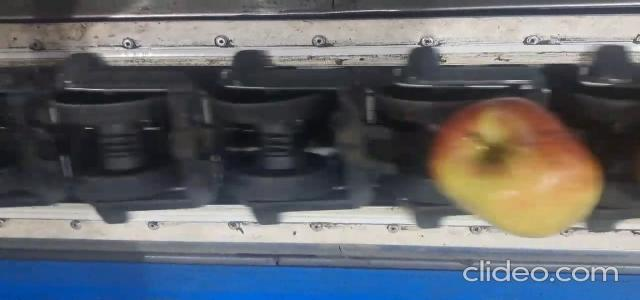apple: (429, 98, 604, 236)
